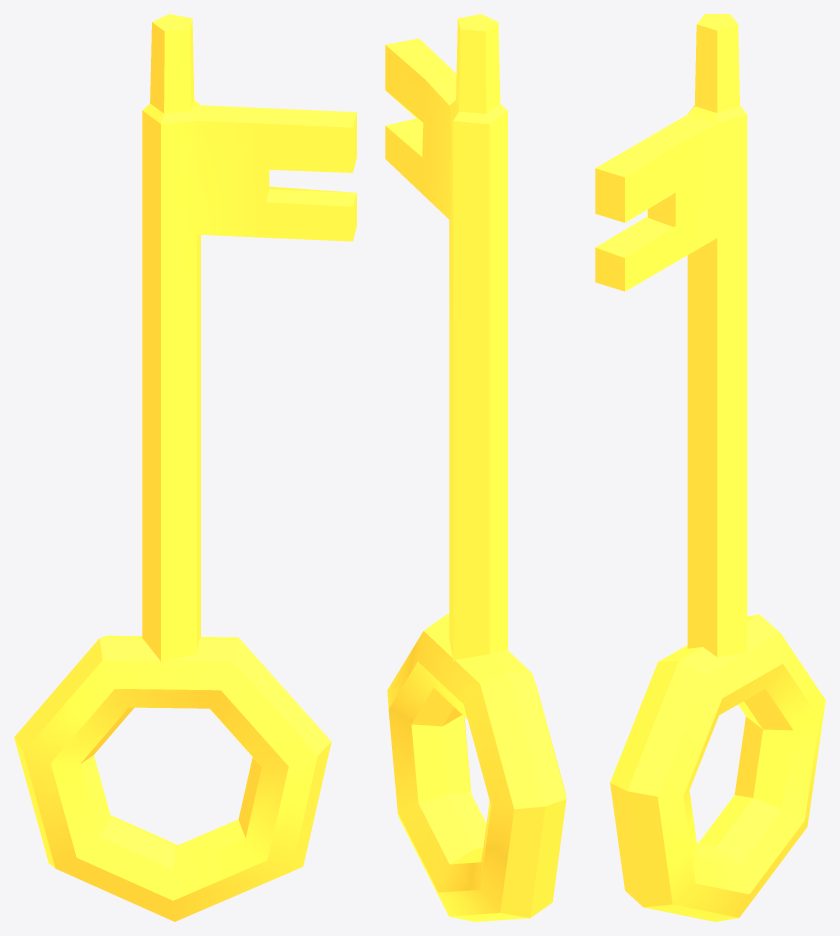
File: Key.fbx
The picture shows the model from 3 angles, left to right: view 1: azimuth 30°, elevation 25°; view 2: azimuth 150°, elevation 25°; view 3: azimuth 270°, elevation 25°; orthographic projection.
Visible parts, largest first — view 1: Rod, Handle; view 2: Rod, Handle; view 3: Rod, Handle.
Part boxes in pixels (bbox=[...]): Rod: bbox=[142, 14, 356, 662]; Handle: bbox=[14, 635, 331, 921]; Rod: bbox=[385, 14, 507, 661]; Handle: bbox=[387, 614, 566, 921]; Rod: bbox=[595, 14, 747, 657]; Handle: bbox=[610, 614, 825, 921].
Size of the model in its own units: 94.44 by 315 by 73.26.
